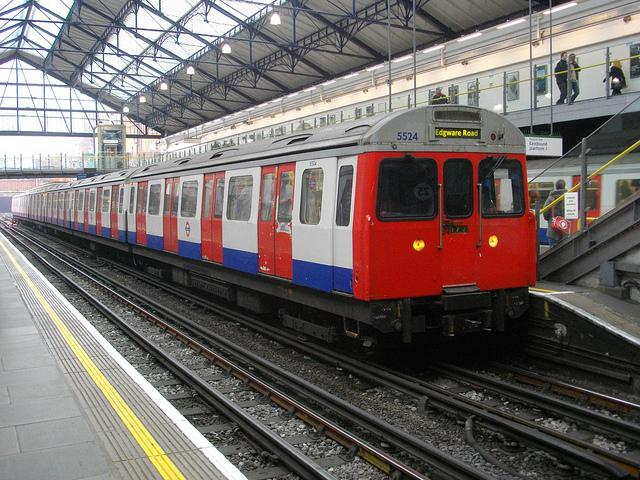Train: (8, 108, 540, 357), (531, 152, 640, 253)
